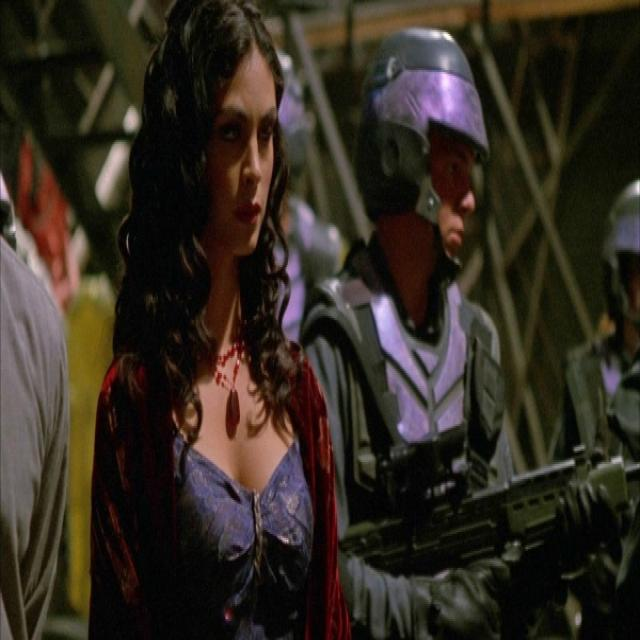rifle: (334, 429, 640, 605)
